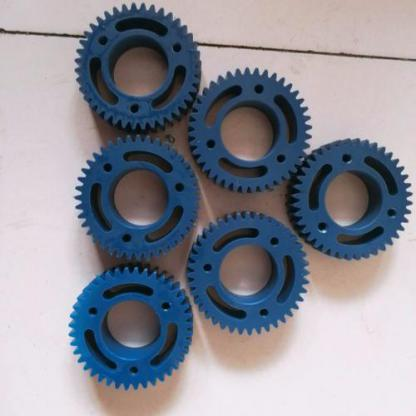FOD: (69, 0, 203, 136), (183, 64, 312, 196), (72, 134, 202, 264), (286, 134, 414, 265), (68, 262, 194, 394), (184, 207, 310, 338)
